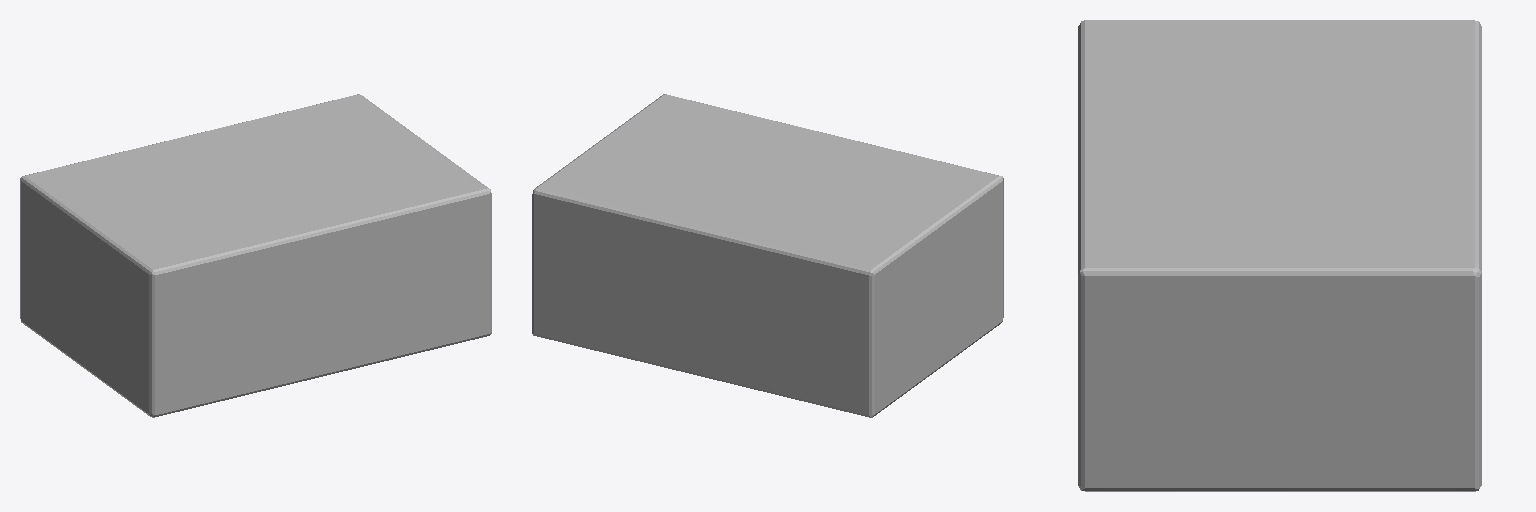
robot.urdf — root:
<?xml version="1.0"?>
<robot name="root">
  <link name="base_link">
    <visual>
      <origin xyz="0 0 0" rpy="0 0 0" />
      <geometry>
        <mesh filename="../meshes/unidex_sem_FoodItem-6ddfe16ee22d7a3fce41b639931f9ca1_006.obj" scale="1.0000E+00 1.0000E+00 1.0000E+00" />
      </geometry>
      <material name="">
        <color rgba="7.50E-01 7.50E-01 7.50E-01 1" />
      </material>
    </visual>
    <collision>
      <origin xyz="0 0 0" rpy="0 0 0" />
      <geometry>
        <mesh filename="../meshes/unidex_sem_FoodItem-6ddfe16ee22d7a3fce41b639931f9ca1_006.obj" scale="1.0000E+00 1.0000E+00 1.0000E+00" />
      </geometry>
    </collision>
  </link>
</robot>

--- Render facts (derived) ---
The picture shows the robot from 3 angles, left to right: view 1: azimuth 30°, elevation 25°; view 2: azimuth 150°, elevation 25°; view 3: azimuth 270°, elevation 25°; orthographic projection.
Model root with 1 links and 0 joints (none), rooted at base_link, posed every joint at zero.
Links seen in each view (by area): view 1: base_link; view 2: base_link; view 3: base_link.
Boxes of the visible links, x1,y1,x2,y2 form: base_link: (20,94,491,417); base_link: (532,94,1003,417); base_link: (1078,20,1481,491).
Bounding box of the posed robot: 0.0926 × 0.0624 × 0.0382 m (x, y, z).
1 mesh visuals loaded from 1 distinct referenced files (1 OBJ).
